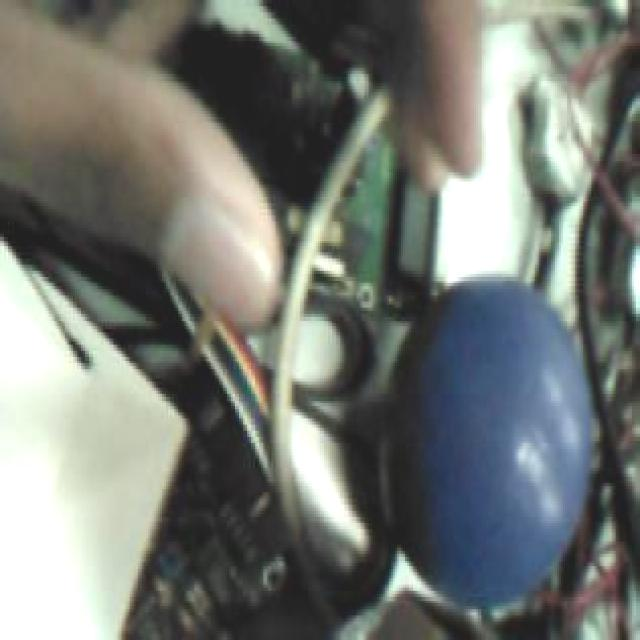BallPurple: (386, 277, 591, 607)
